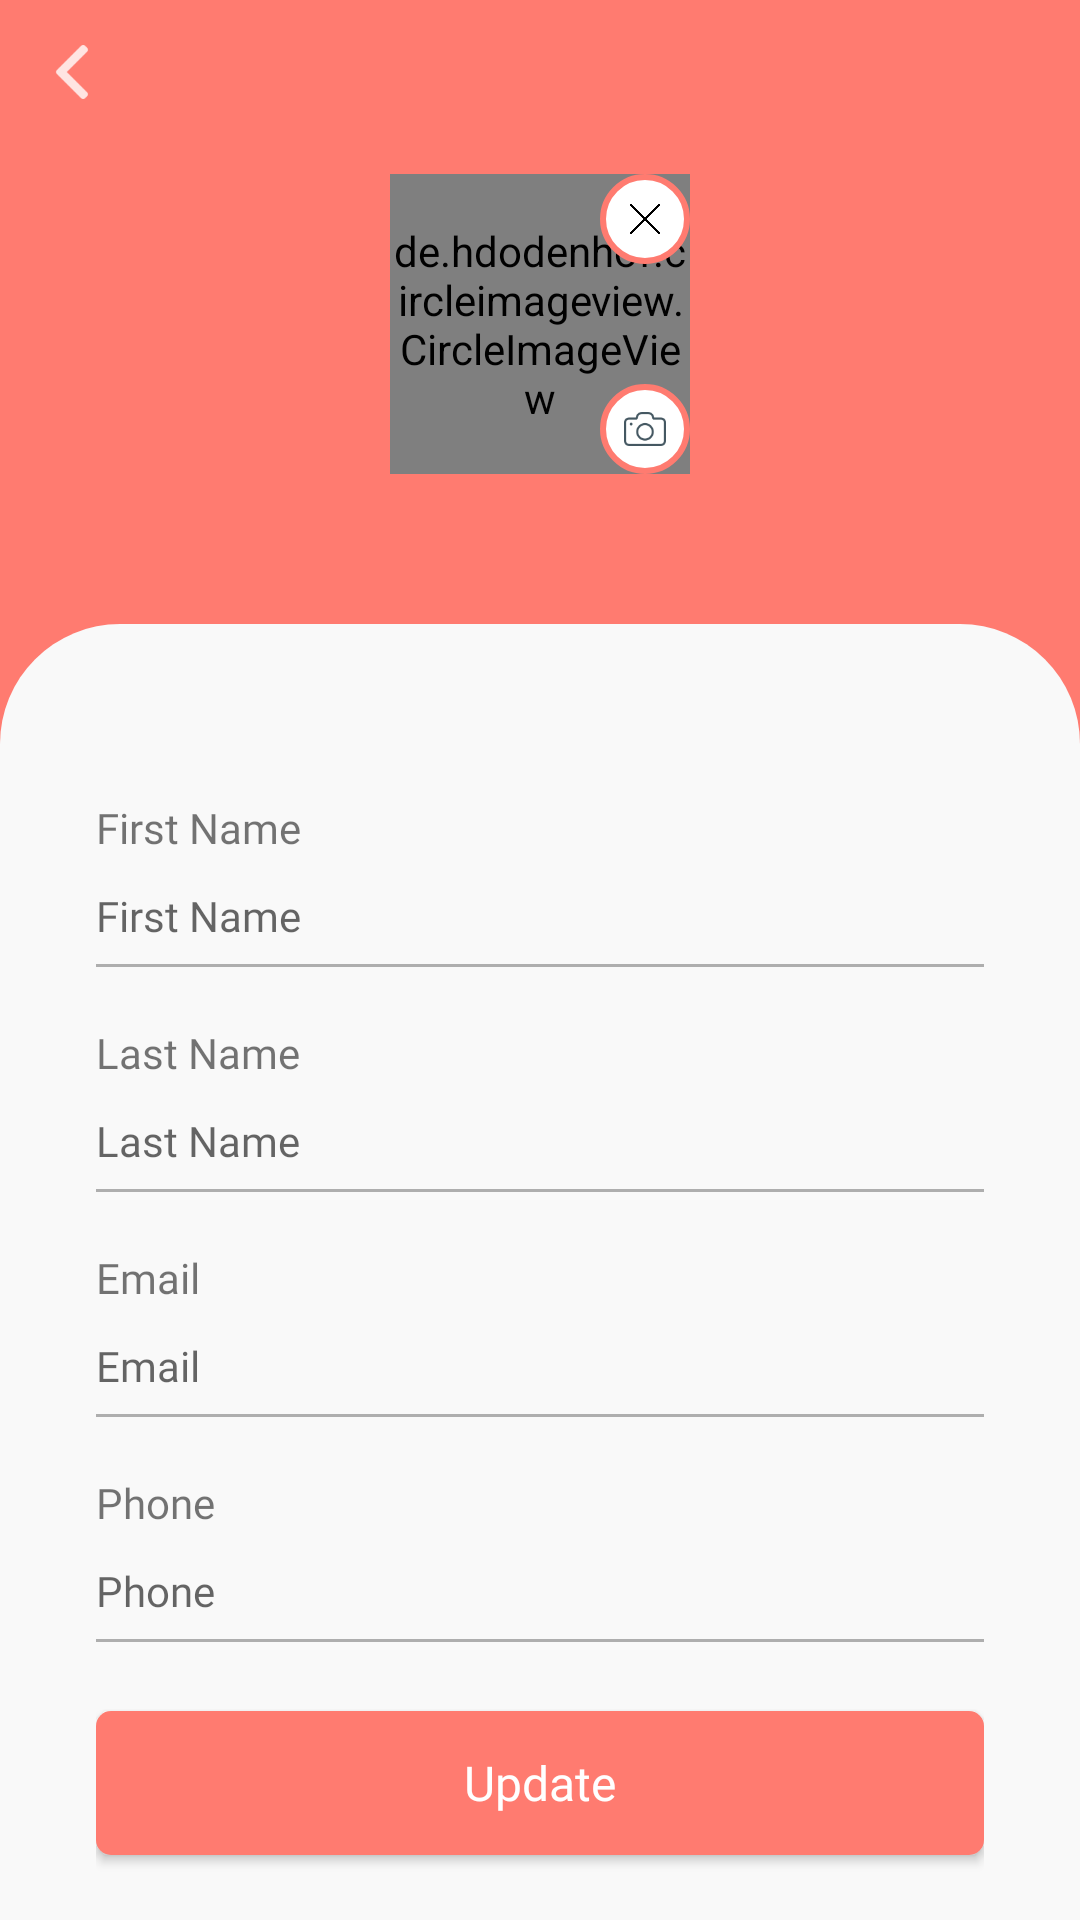

Icons on this 1080w x 1920h Android screen, each with the point to tap as [x,y]:
back: [72,72]
camera: [645,429]
cancel: [645,219]
